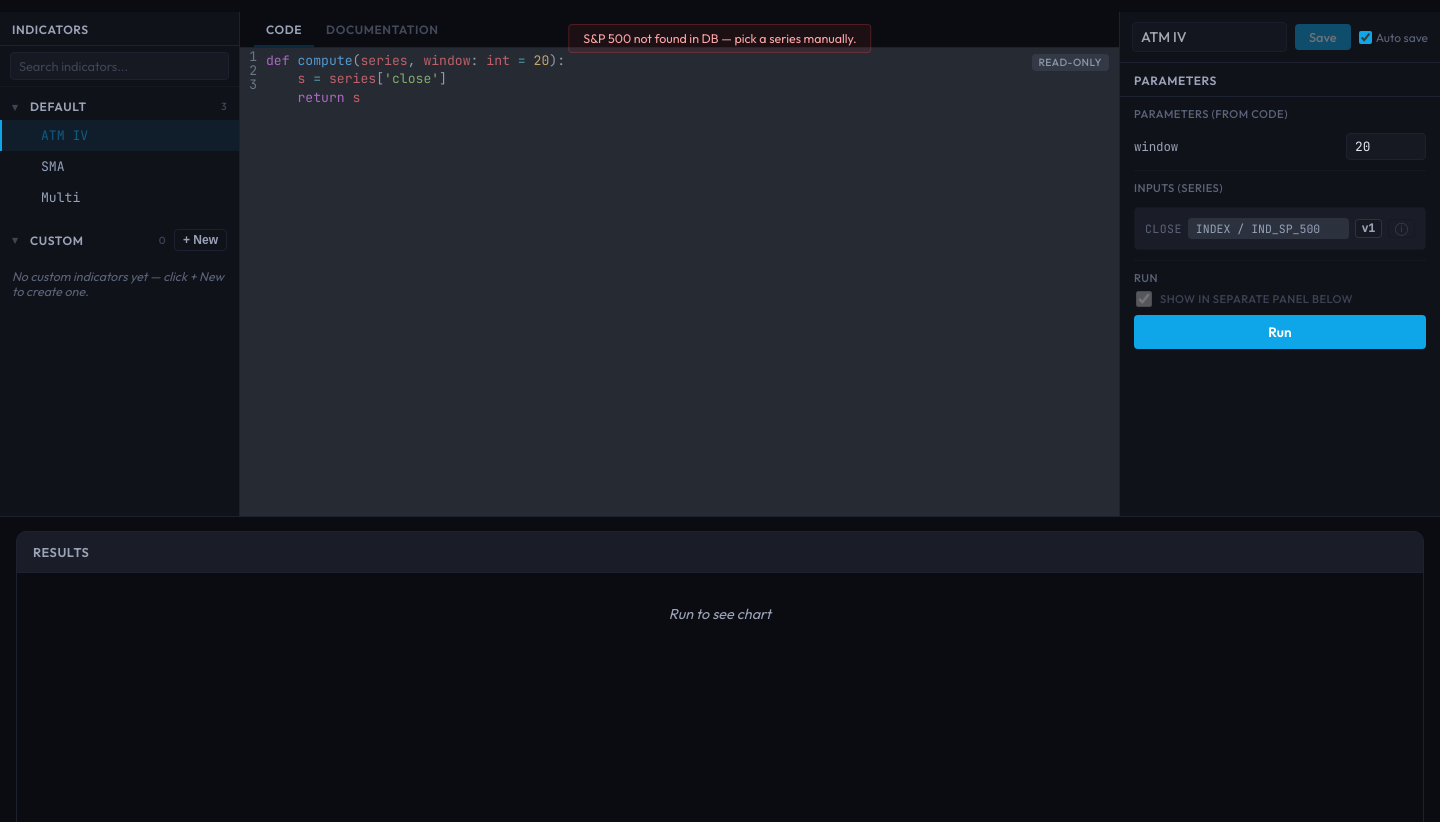
incompat pre-flight error card › refuses to run with typed incompatible_asset error when seriesMap is incompat with declared compat list
Click the button with aria-label "run indicator".
click(1280, 332)  # box 1134,315 -> 1426,349
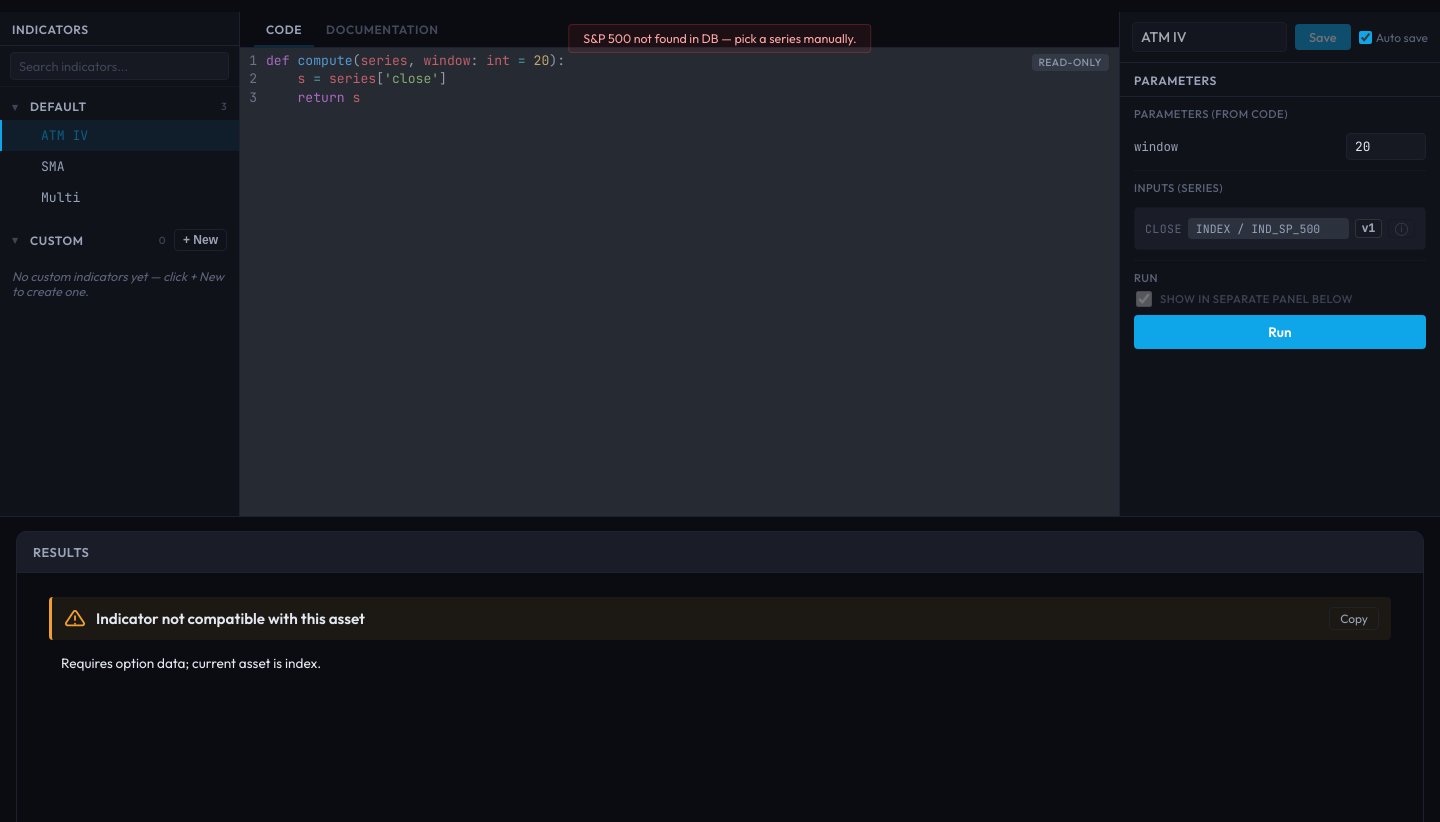
expect the text "Requires option data; current asset is index." is shown: met, box 61,654 -> 321,672
